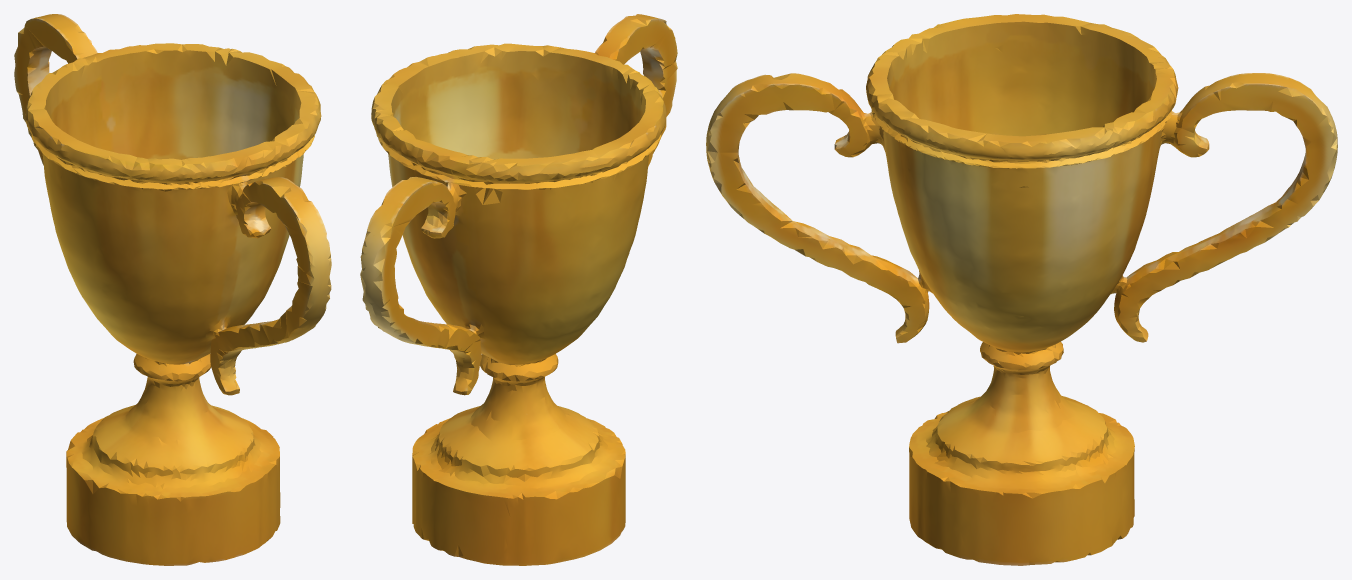
File: trophy_cup.glb
The picture shows the model from 3 angles, left to right: view 1: azimuth 30°, elevation 25°; view 2: azimuth 150°, elevation 25°; view 3: azimuth 270°, elevation 25°; orthographic projection. The views are drawn at different scales.
Parts seen in each view (by area): view 1: Trophy_Cup; view 2: Trophy_Cup; view 3: Trophy_Cup.
Part boxes in pixels (x1,y1,x2,y2): Trophy_Cup: (14,14,331,565); Trophy_Cup: (360,14,677,565); Trophy_Cup: (706,14,1337,565).
Bounding box in the file's own units: 0.9413 × 1.46 × 1.9.
1 material, 1 textured.
